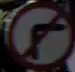Don't turn right: (18, 6, 67, 61)
